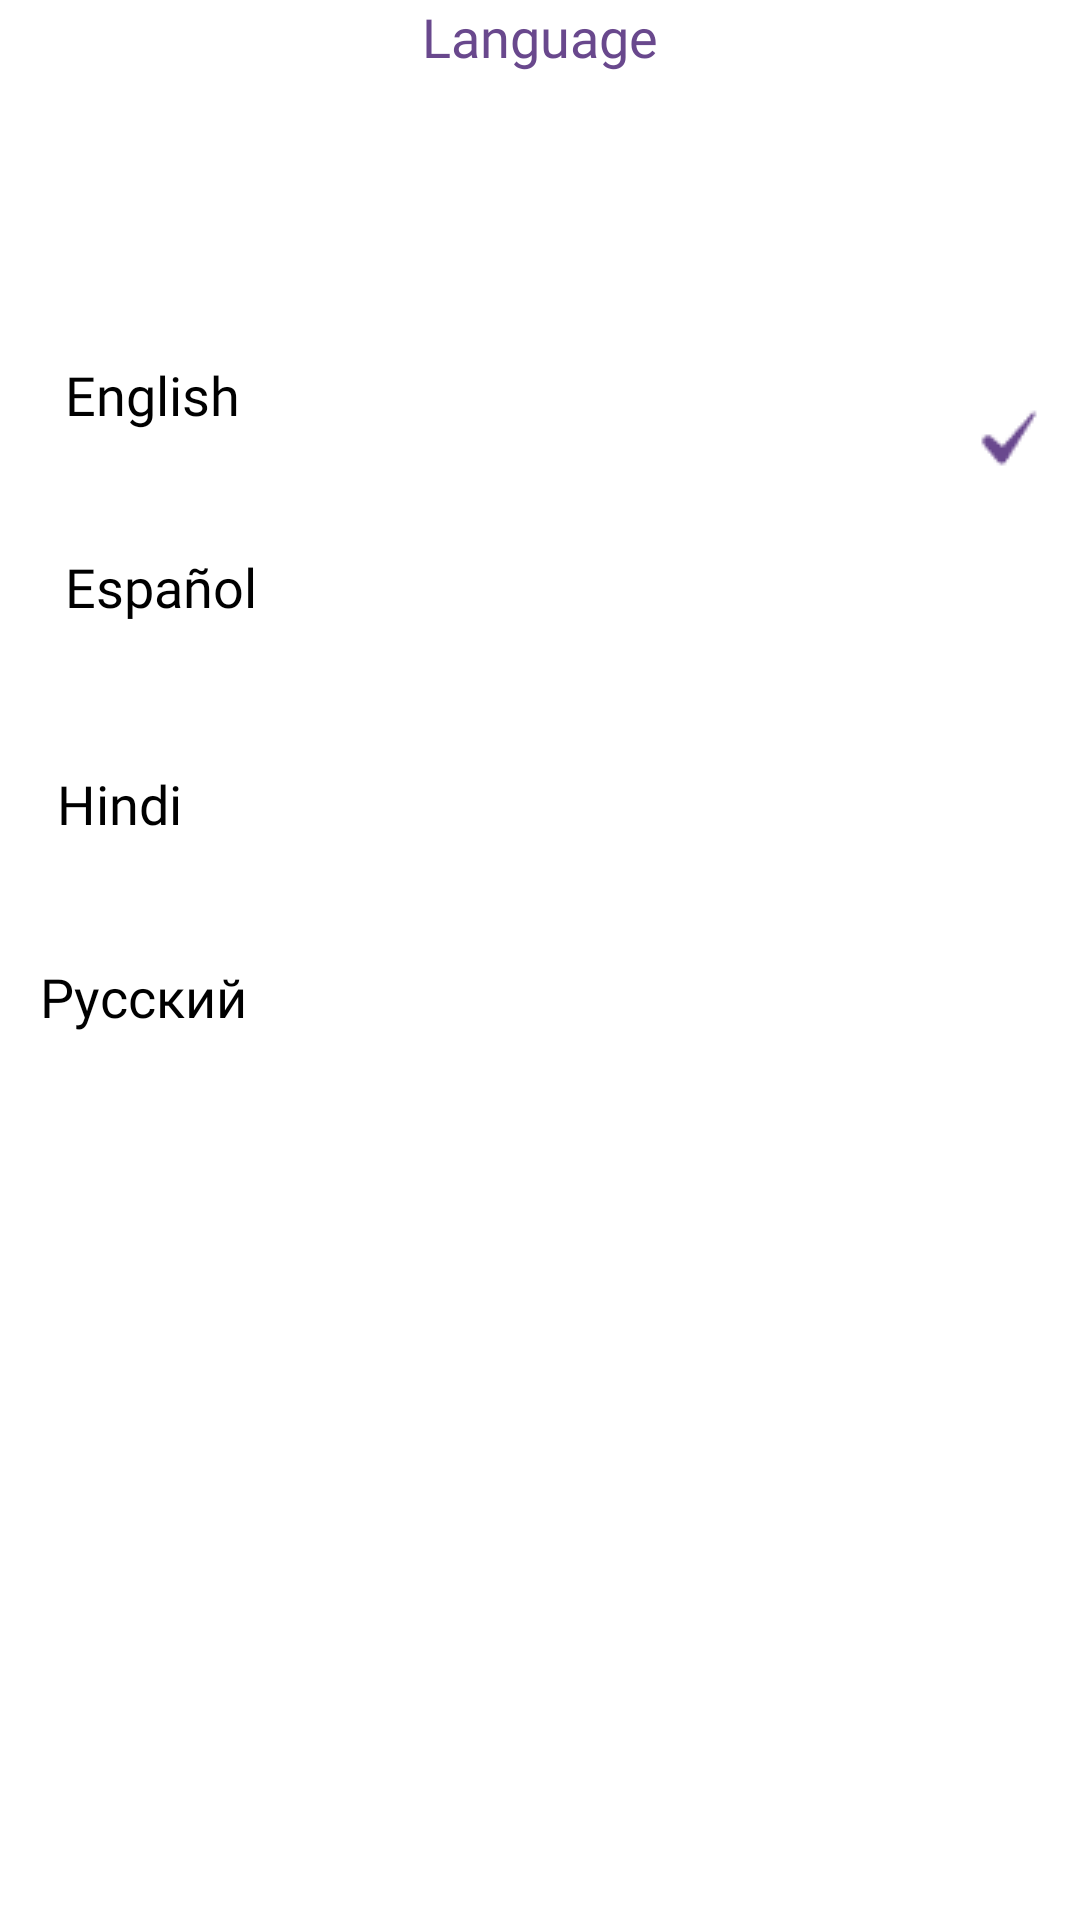

Screen size 1080*1920. Icon name, then its center in pixels as point (x, y):
checkboxtick: point (1009, 438)
